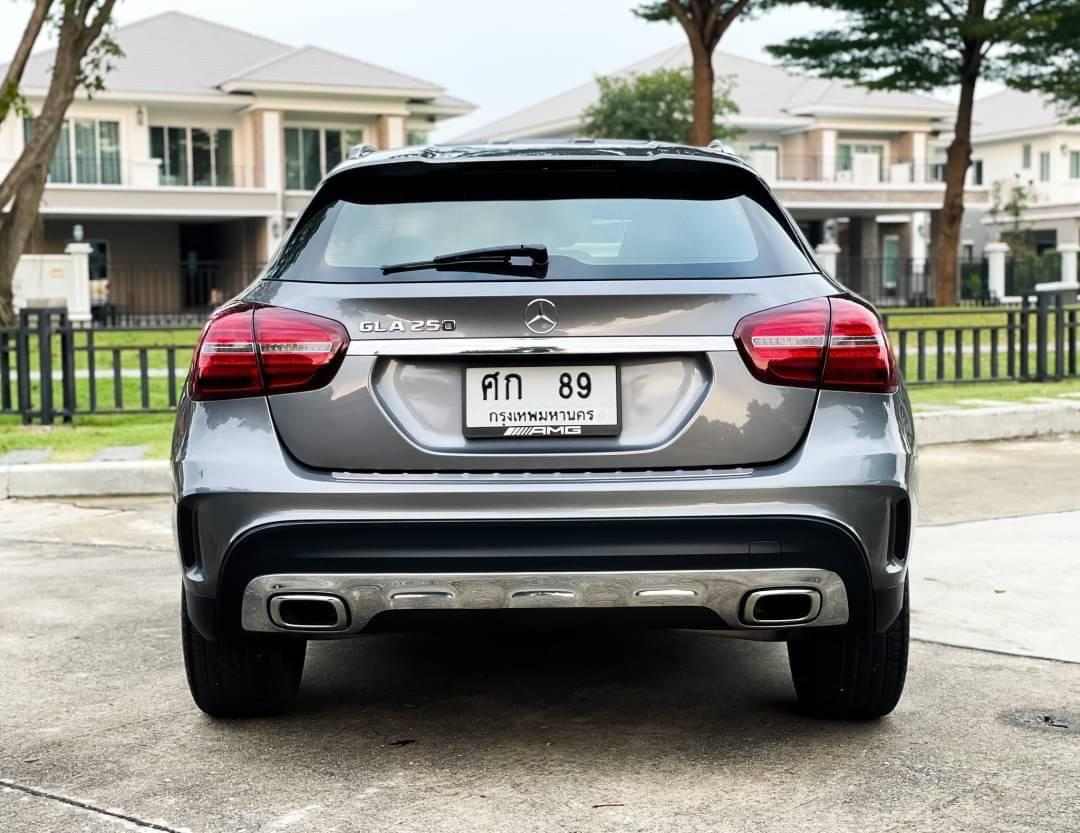license-plate: (460, 356, 625, 441)
